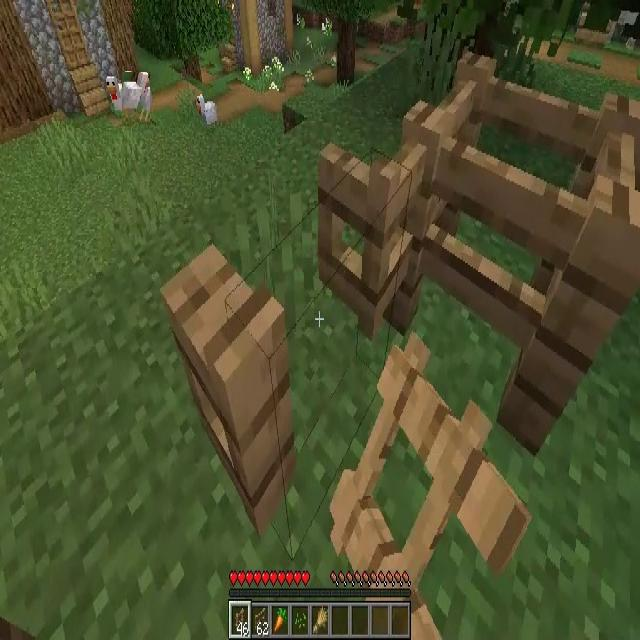duck: (122, 72, 150, 122), (110, 75, 130, 121), (195, 92, 217, 128)
